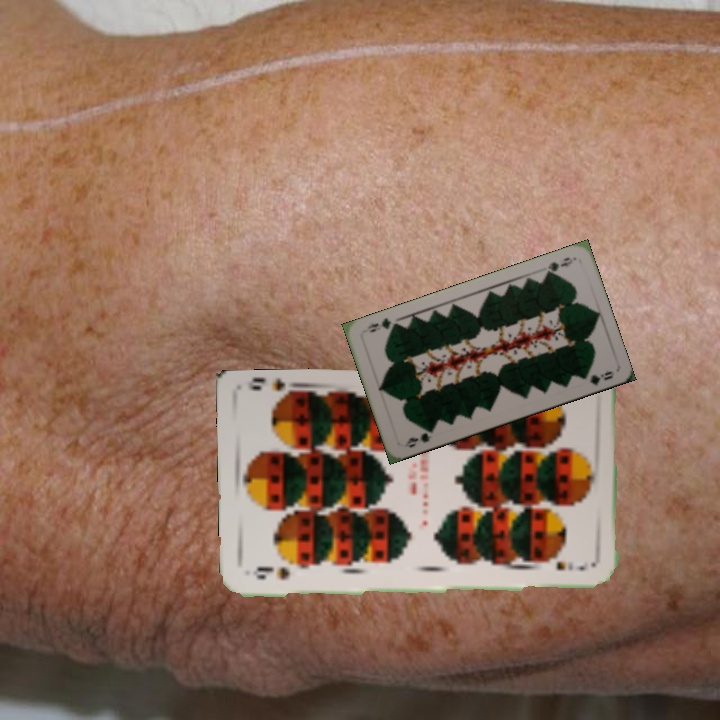G9: (399, 424, 437, 450), (542, 253, 577, 278)
S9: (249, 562, 292, 582)
